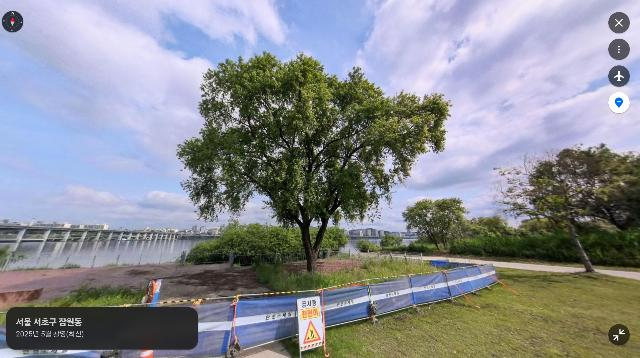other: (176, 50, 453, 274), (491, 142, 640, 274), (401, 198, 471, 252)
